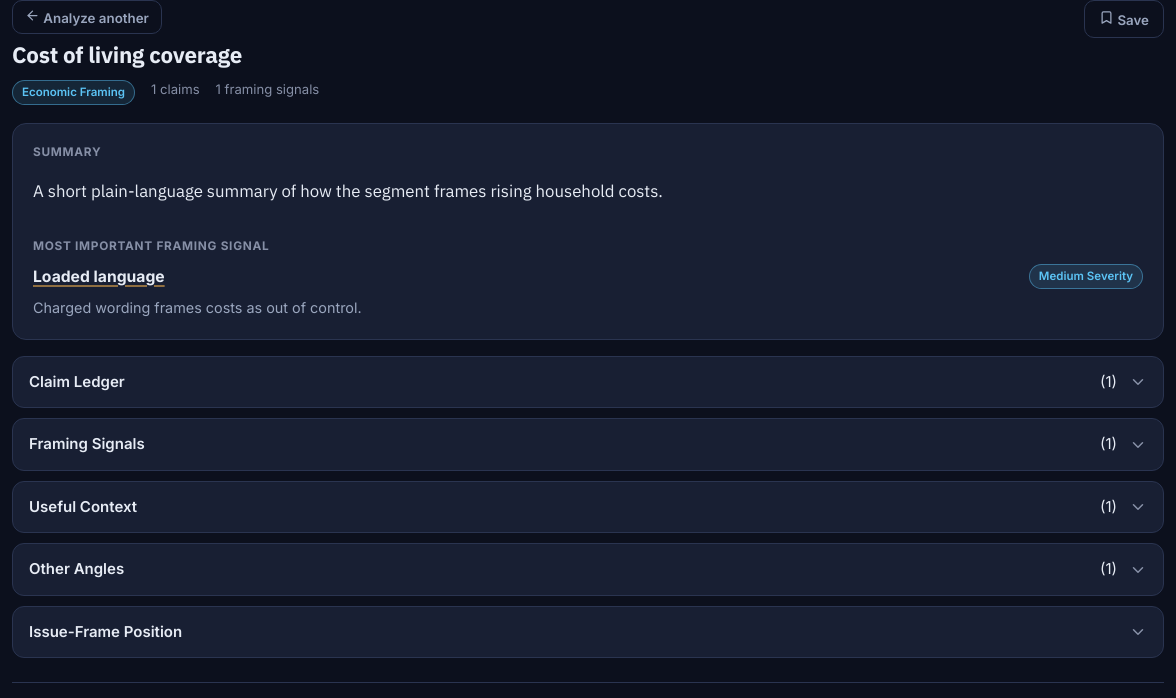
Test case: color-never-alone adjacency (Req 7.1) › renders source-tier chips as text labels adjacent to their color indicator
Note: Open Other Angles so the perspective's SourceTierChip + IssueFrameChip render.
Click the button "Other Angles (1)" at [77, 569], box [29,559,1147,579]
(page scrolled)
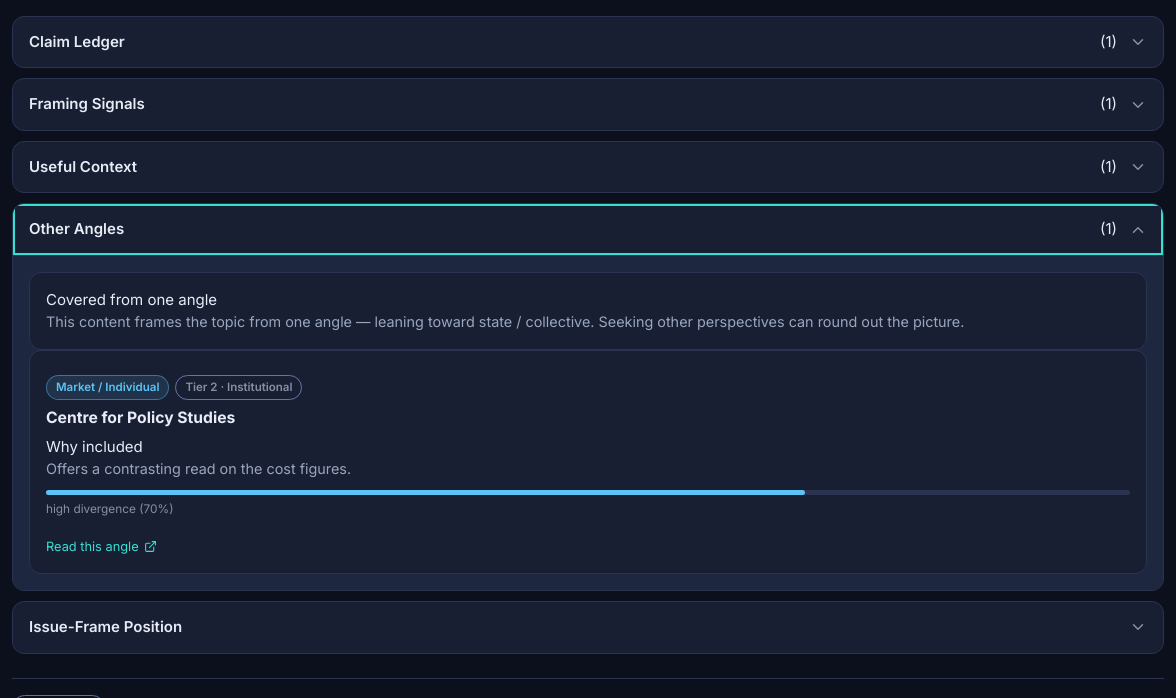
Now the text "Tier 2 · Institutional" is shown, box [175,375,302,400]
Now the text "Market / individual" is shown, box [46,375,169,400]
